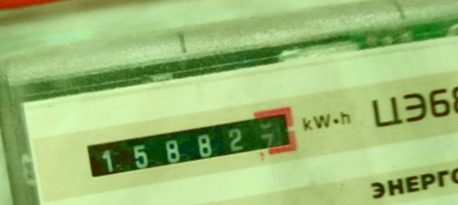1: (98, 143, 115, 174)
2: (224, 125, 245, 153)
5: (129, 140, 150, 172)
7: (258, 129, 273, 148)
8: (161, 135, 181, 166), (193, 129, 213, 160)
screen: (71, 96, 304, 191)
